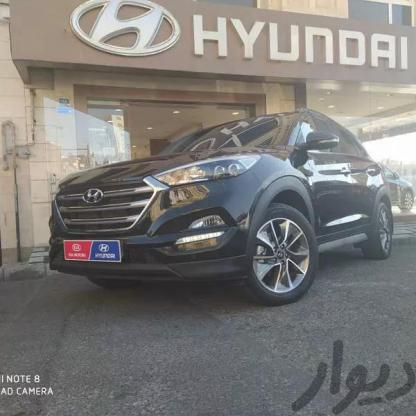Car: (42, 101, 397, 319), (371, 173, 416, 213)
